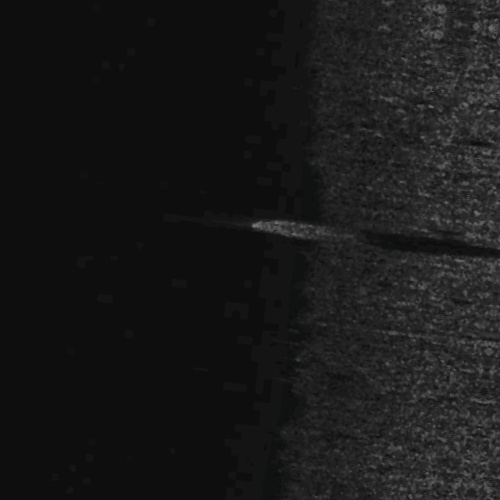object: (296, 221, 327, 224)
shadow: (312, 221, 488, 224)
